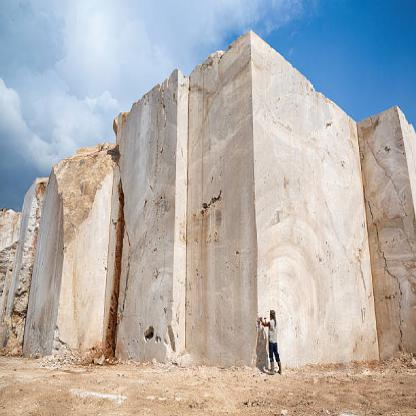Metamorphic_Marble: (189, 28, 380, 374), (109, 64, 185, 361), (23, 134, 118, 368), (357, 98, 415, 360)
